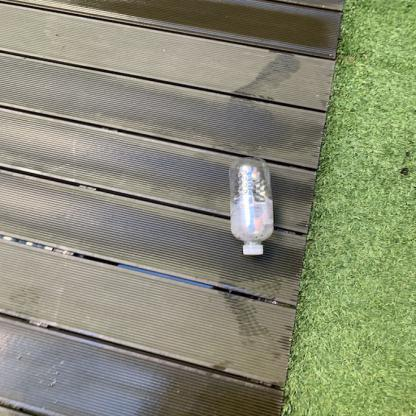plastic-bottles: (223, 158, 290, 258)
